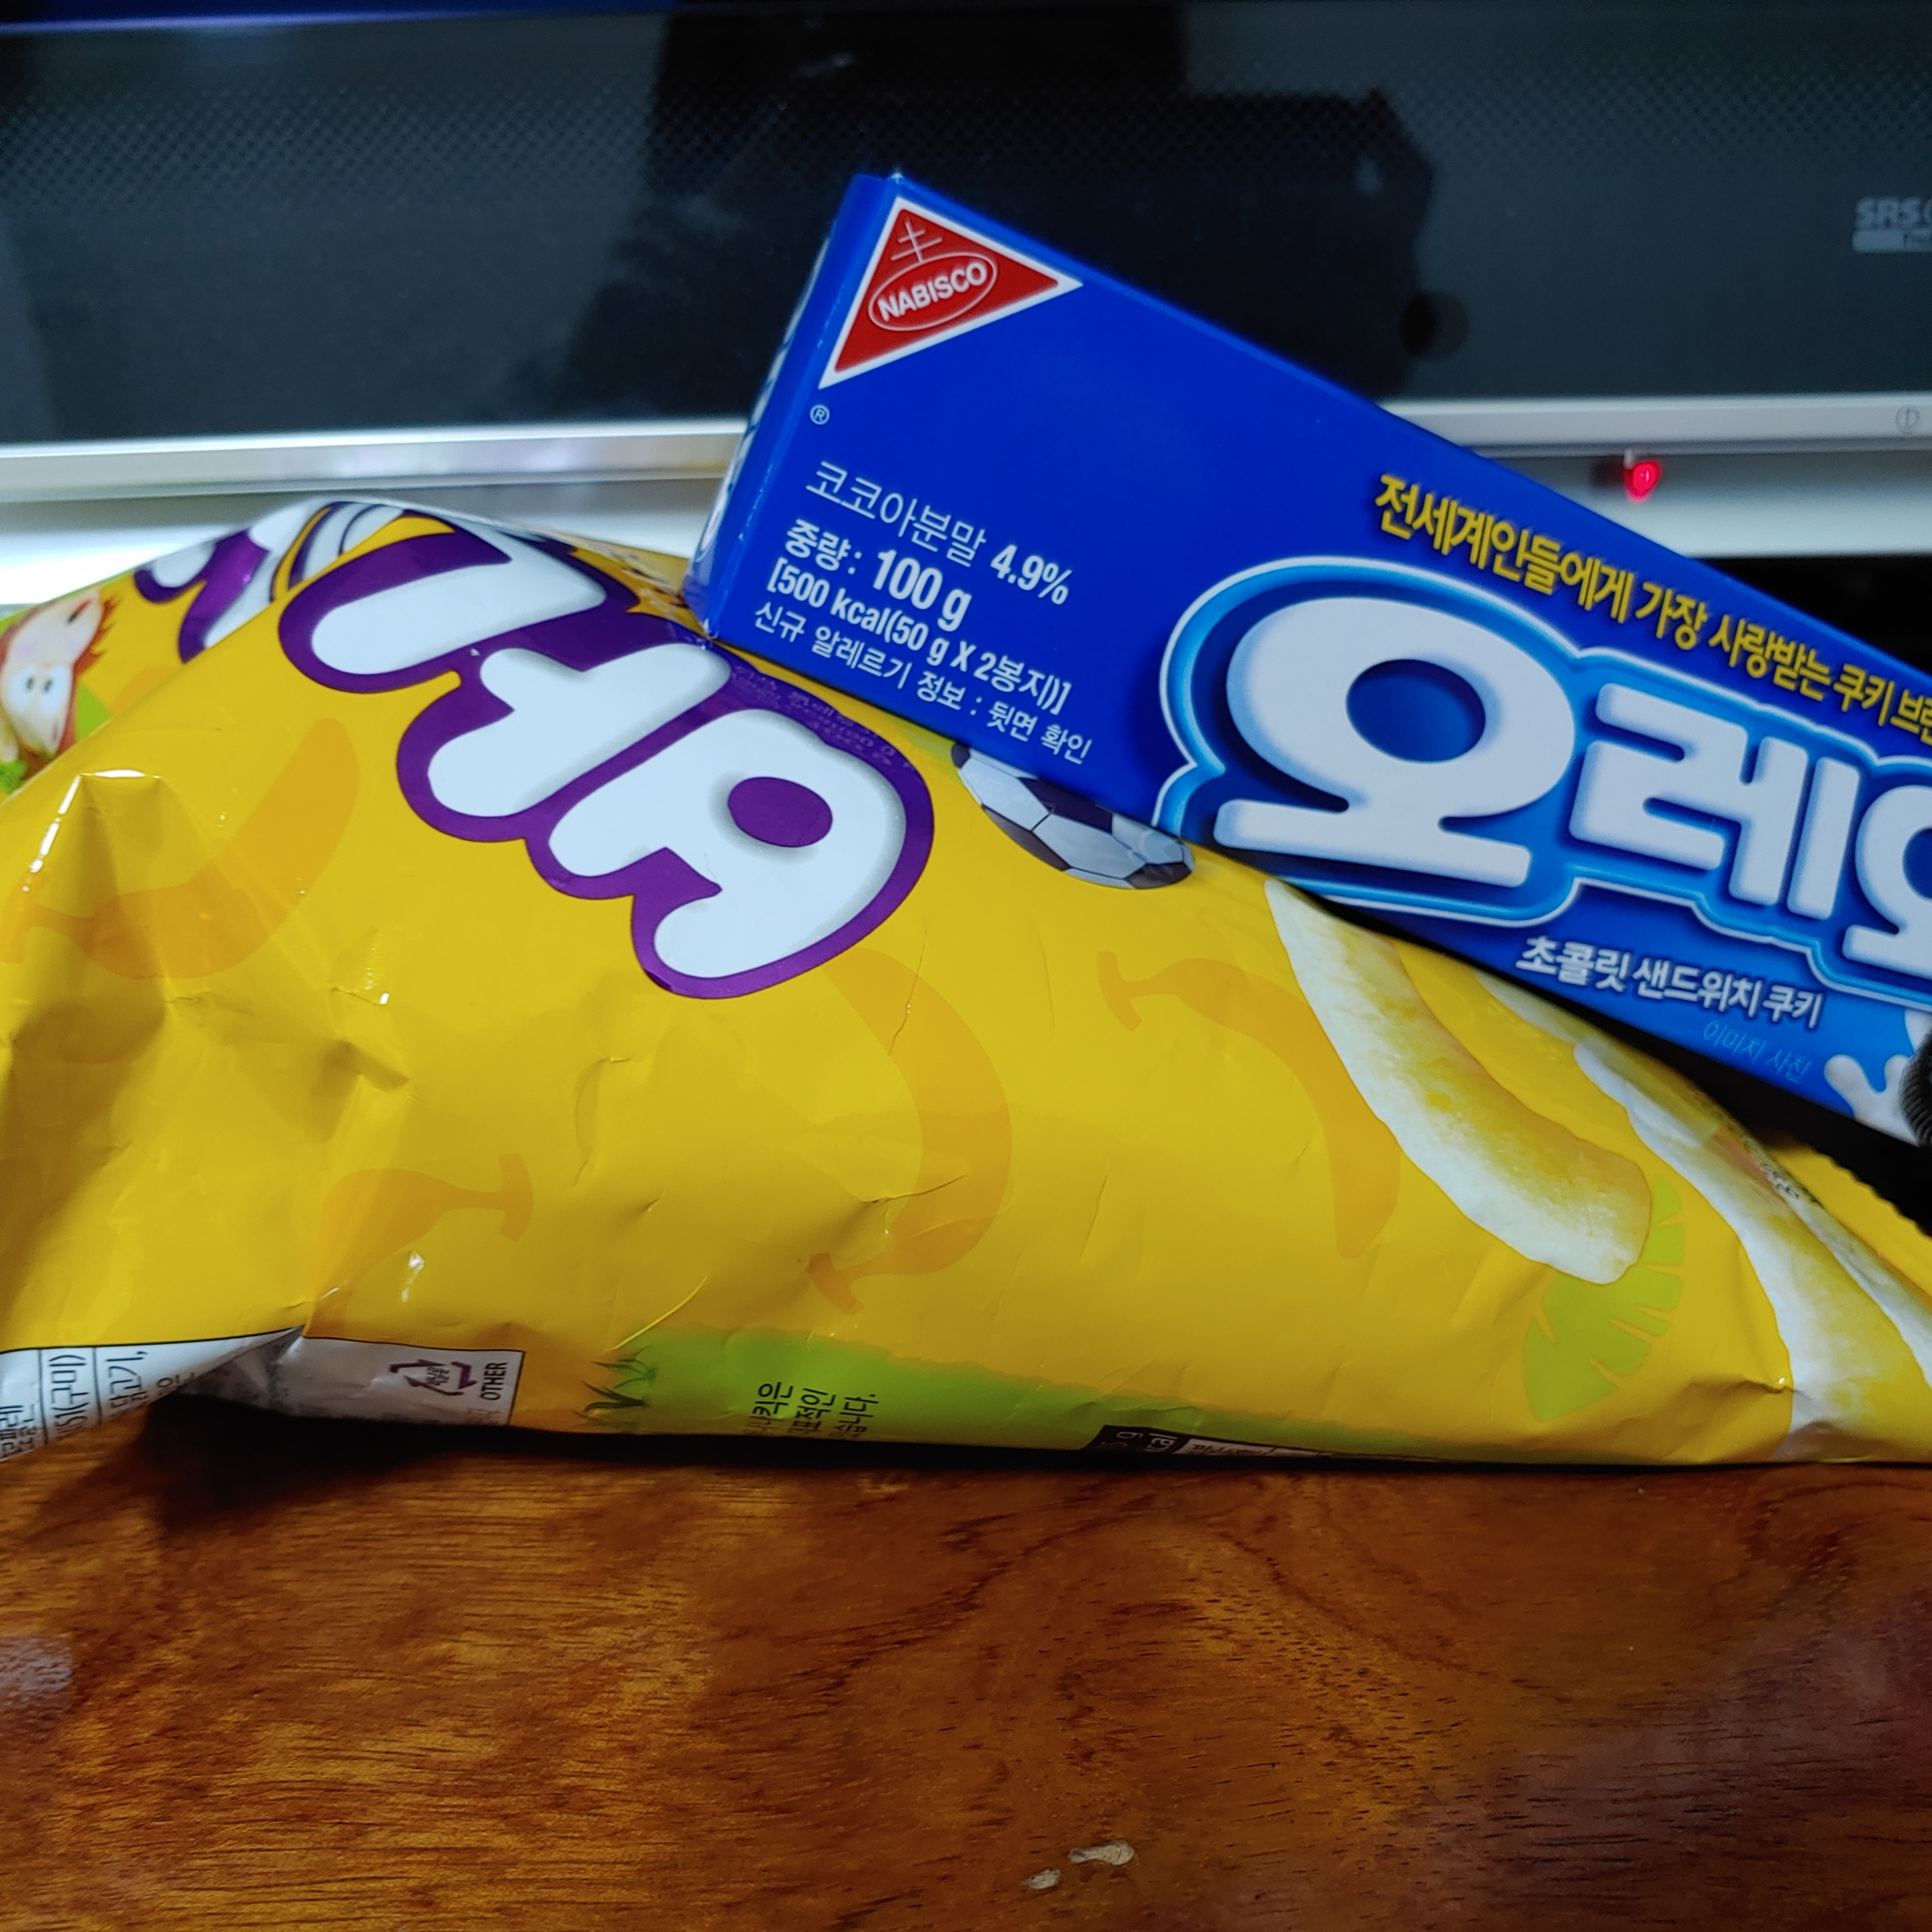banana: (0, 449, 1932, 1633)
oreo: (681, 88, 1932, 1217)
